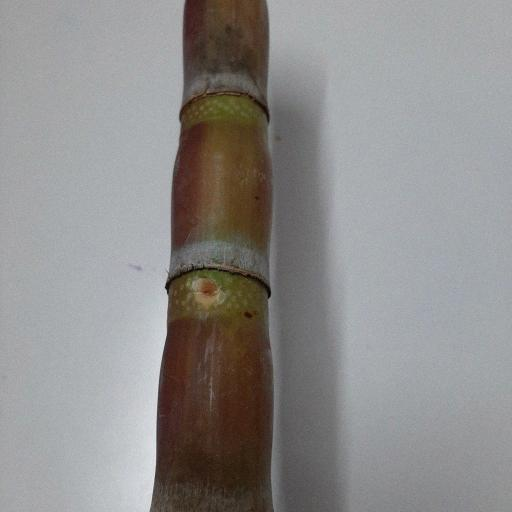Damage_Bud: (189, 274, 225, 308)
